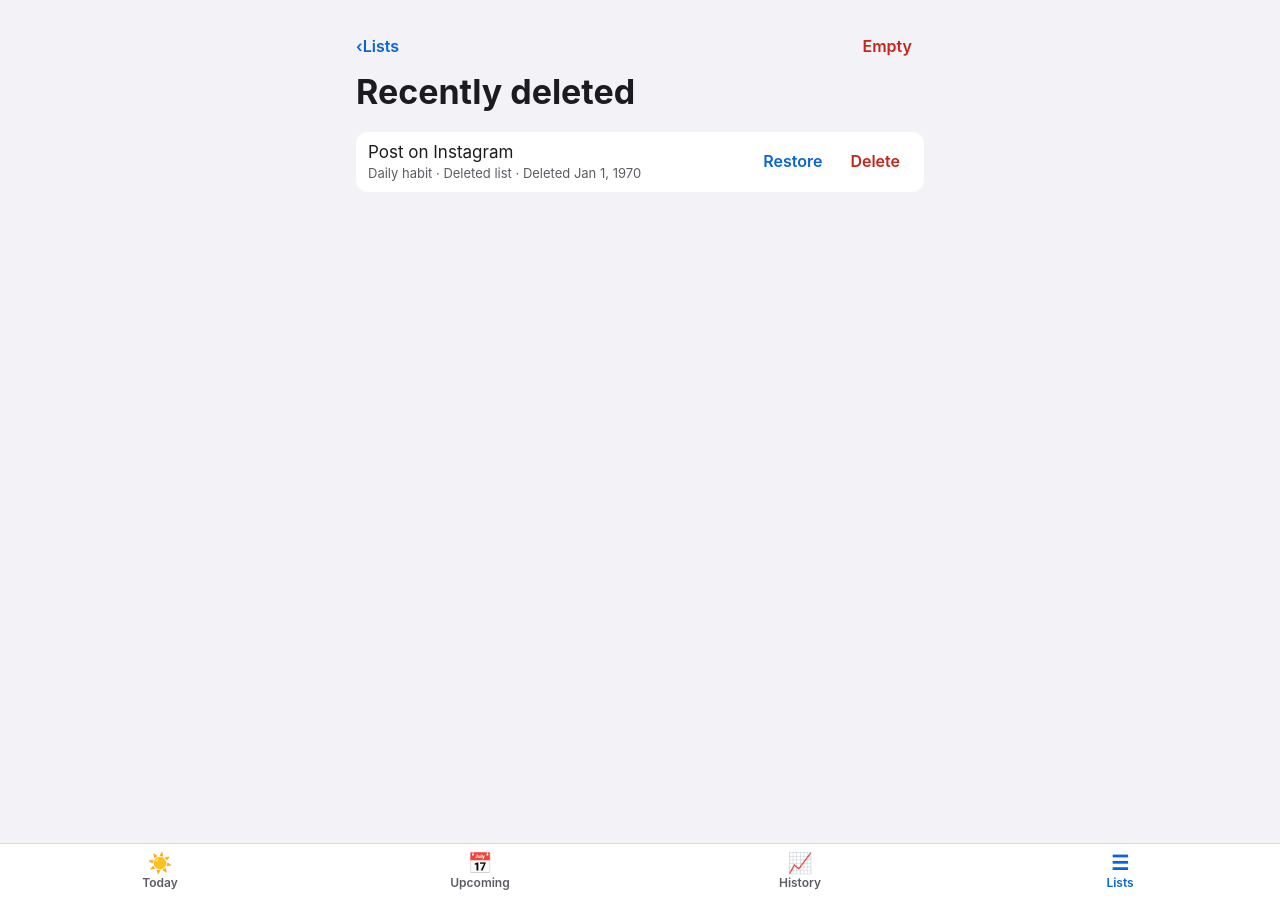
Test case: Recently deleted › restores into the first list when its own list was deleted, and says so
The image size is (1280, 900).
Click the button with aria-label "Restore Post on Instagram".
click(793, 162)  # box [751,140,834,184]
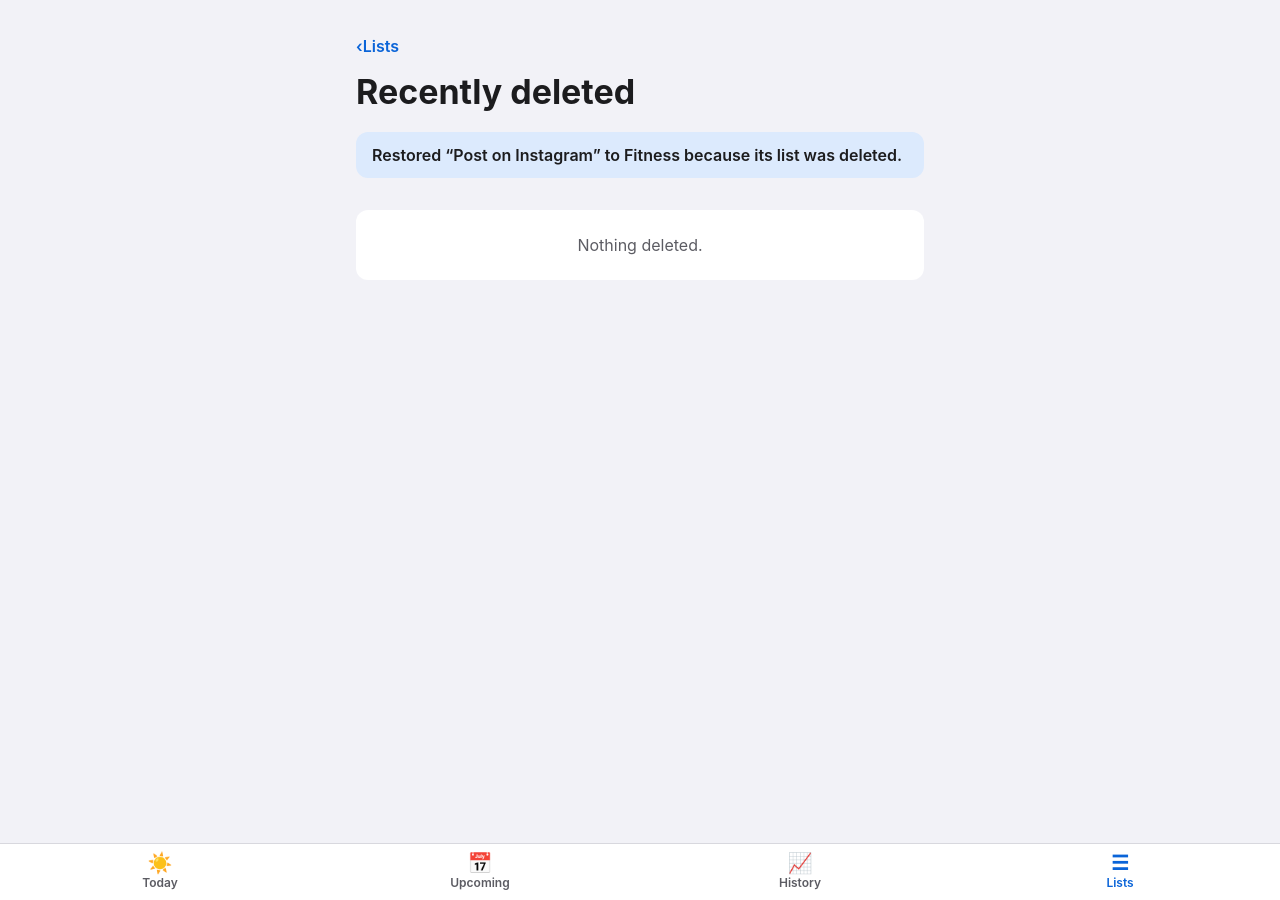
Check: the text "Restored “Post on Instagram” to Fitness because its list was deleted." is shown, box [356,132,924,178]
